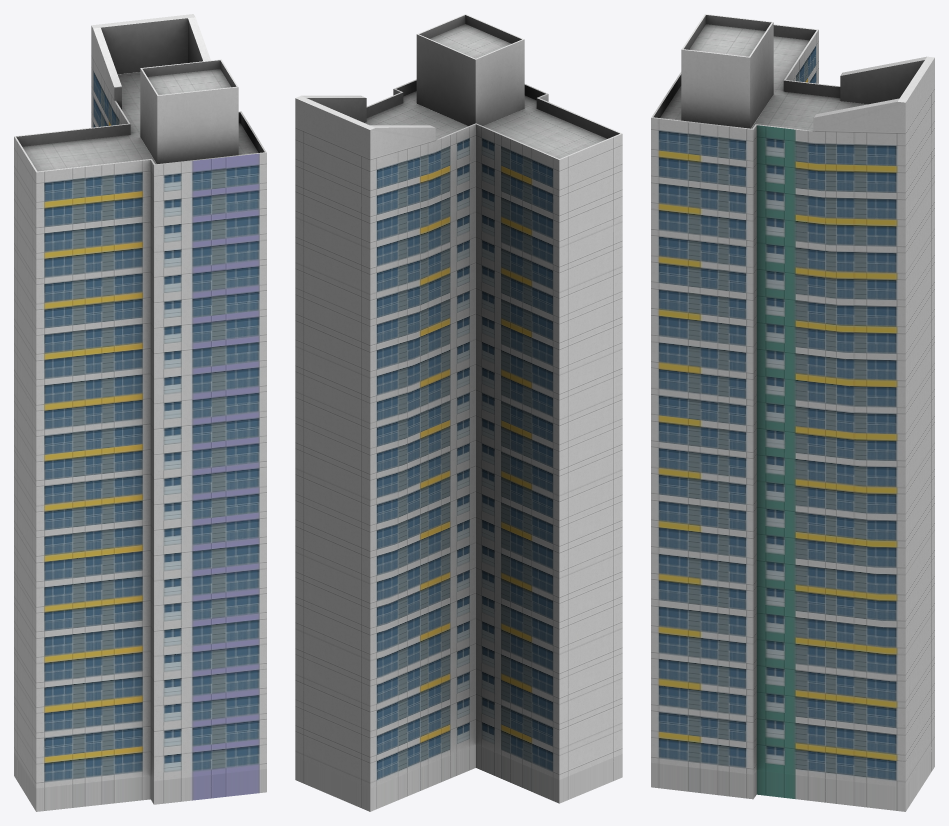
3 views of the same model, side by side, from view 1: azimuth 30°, elevation 25°; view 2: azimuth 150°, elevation 25°; view 3: azimuth 270°, elevation 25° (orthographic). The views are drawn at different scales.
Parts seen in each view (by area): view 1: a_bd002; view 2: a_bd002; view 3: a_bd002.
Boxes of the visible parts, box(x1,y1,x2,y2) form: a_bd002: box(14, 14, 266, 811); a_bd002: box(295, 14, 622, 811); a_bd002: box(651, 14, 934, 811).
Size of the model in its own units: 33.16 by 32.25 by 91.6.
Materials: 1 (1 with a texture image).
